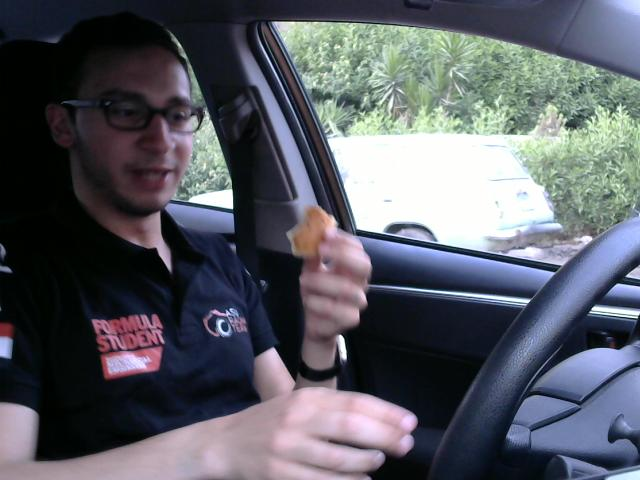Eating: (285, 196, 346, 267)
